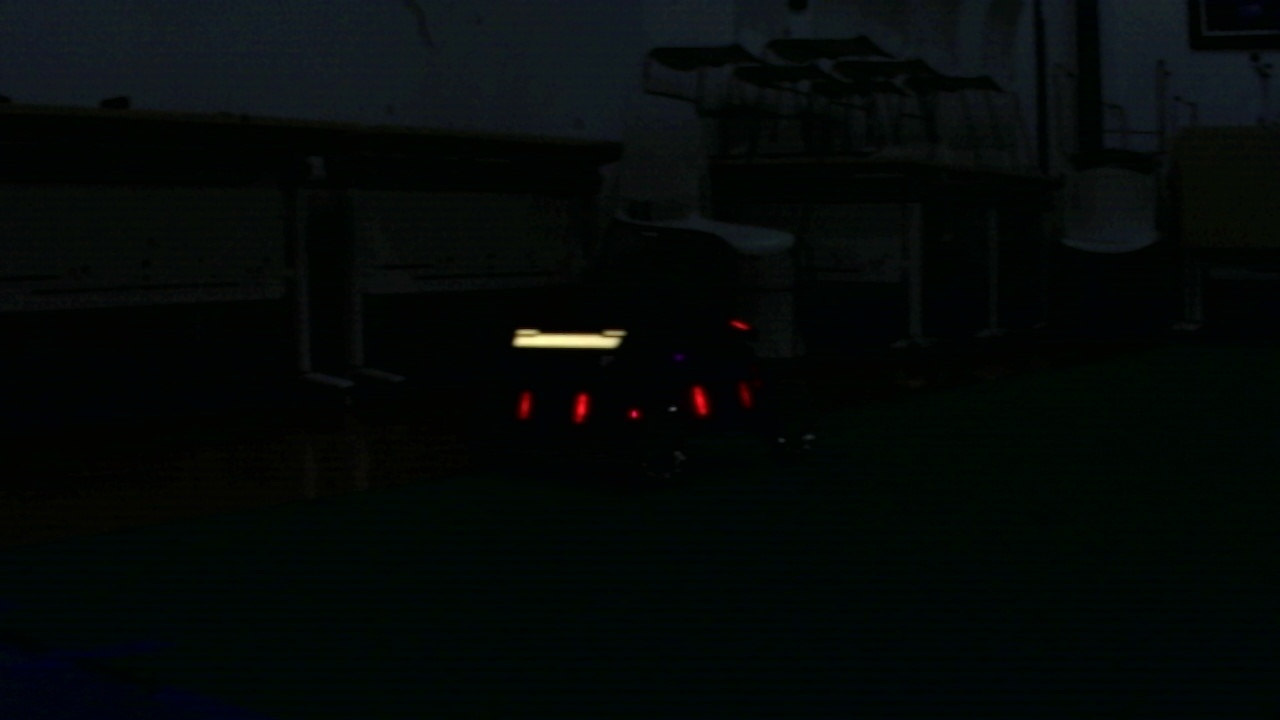lamp: (689, 387, 711, 416), (574, 389, 588, 426)
